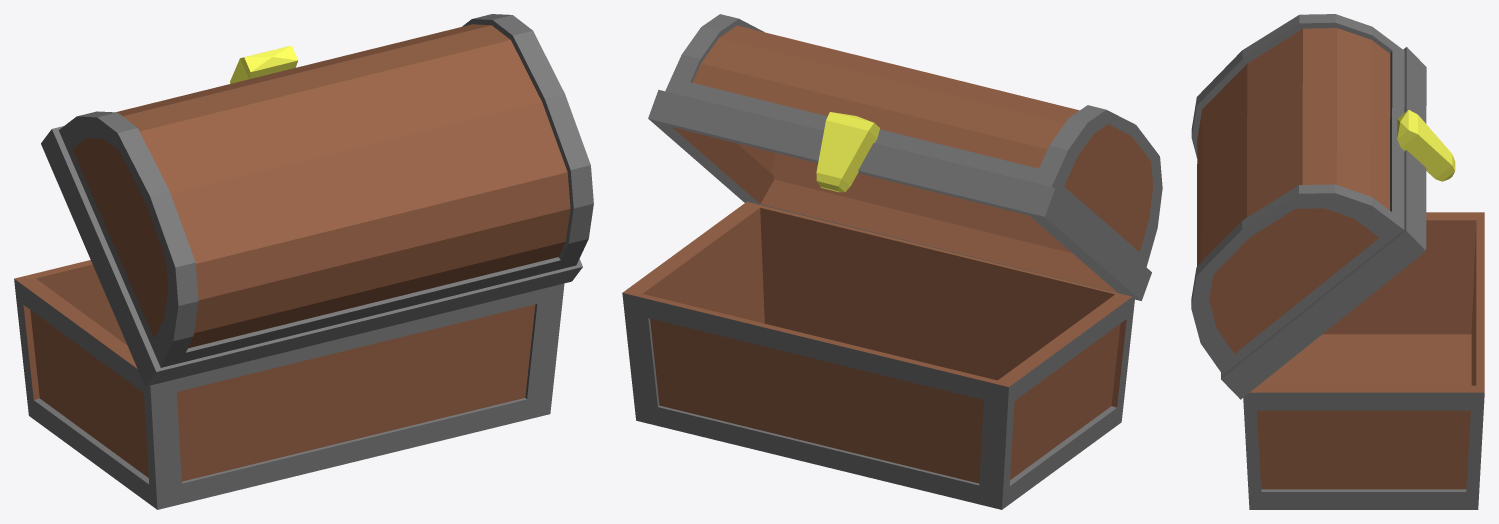
File: ChestOpened.glb
3 renders of one model, left to right at view 1: azimuth 30°, elevation 25°; view 2: azimuth 150°, elevation 25°; view 3: azimuth 270°, elevation 25°, orthographic. The views are drawn at different scales.
Visible parts, largest first — view 1: Plane, Plane.001, Plane.002; view 2: Plane.001, Plane, Plane.002; view 3: Plane, Plane.001, Plane.002.
Boxes of the visible parts, x1,y1,x2,y2 form: Plane: (41,14,593,386); Plane.001: (14,260,564,509); Plane.002: (230,45,298,83); Plane.001: (622,201,1134,509); Plane: (648,14,1162,300); Plane.002: (816,112,879,192); Plane: (1191,14,1426,399); Plane.001: (1243,212,1484,509); Plane.002: (1397,110,1455,181).
Bounding box in the file's own units: 5.25 × 4.25 × 3.51.
